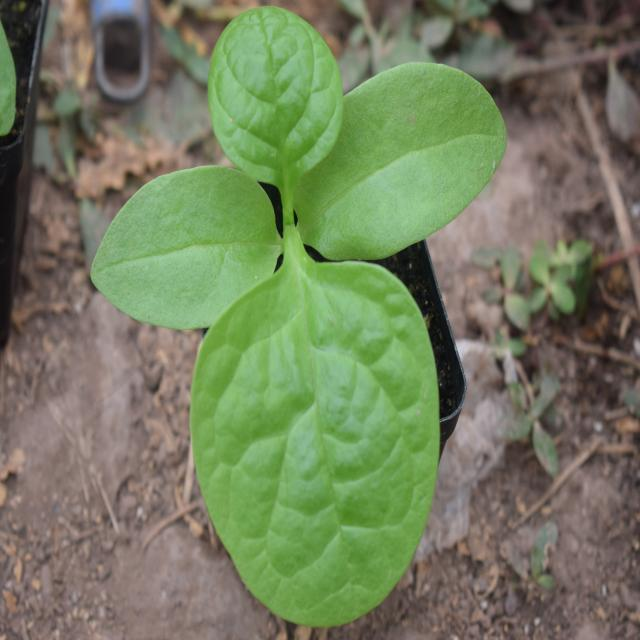Ceylon spinach: (124, 8, 503, 602)
